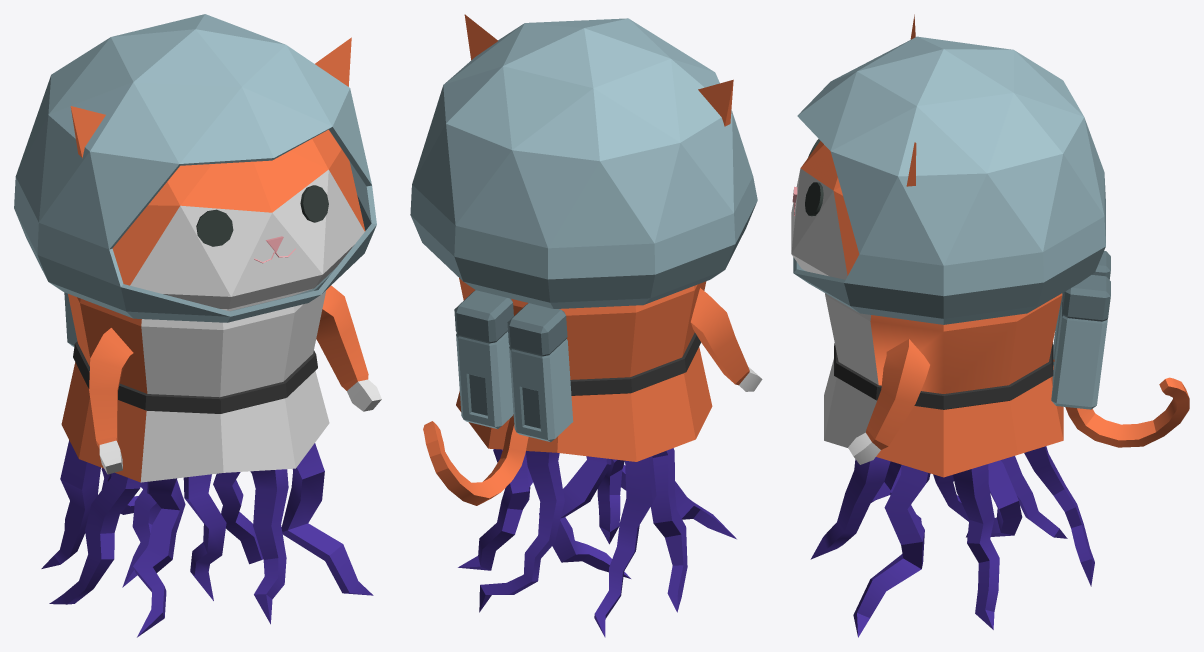
Rendered from romensf-jellycat.glb.
3 renders of one model, left to right at view 1: azimuth 30°, elevation 25°; view 2: azimuth 150°, elevation 25°; view 3: azimuth 270°, elevation 25°, orthographic. The views are drawn at different scales.
Parts seen in each view (by area): view 1: Icosphere; view 2: Icosphere; view 3: Icosphere.
Part boxes in pixels (left/top/right/bottom): Icosphere: left=14, top=14, right=381, bottom=637; Icosphere: left=410, top=14, right=762, bottom=637; Icosphere: left=791, top=14, right=1189, bottom=637.
Size of the model in its own units: 1.84 by 3.17 by 2.15.
